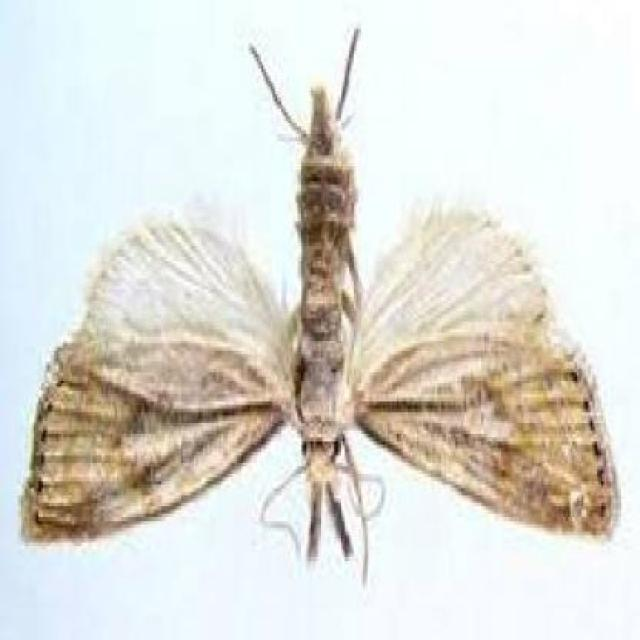stem-borer: (16, 22, 622, 596)
